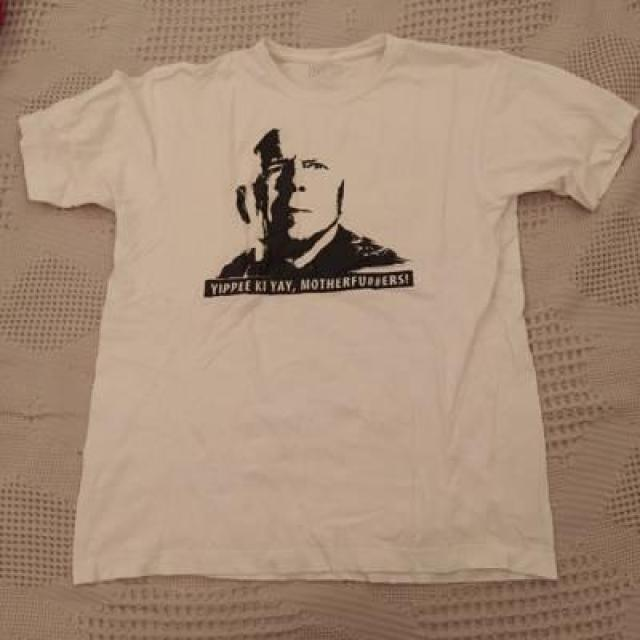shirt: (19, 34, 637, 584)
